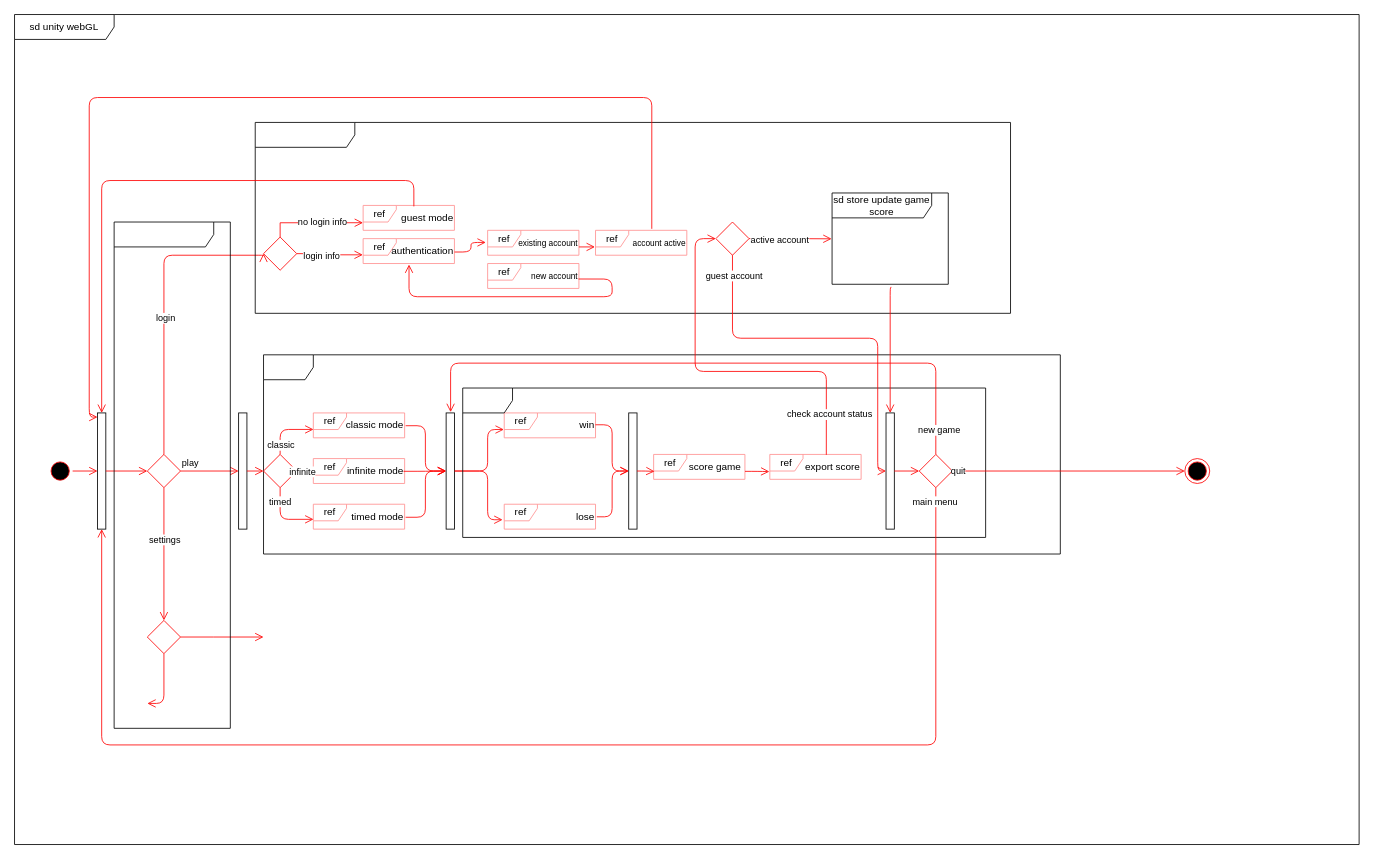
This 1374x859 diagram has some shape labels left out. Here are the shapes that lost their labels. From the top down, the box of each, then its label:
(254, 122, 1011, 313): sd Firebase
(263, 354, 1060, 554): sd game mode
(462, 387, 986, 537): sd game instance
(113, 221, 230, 728): sd Main Menu
